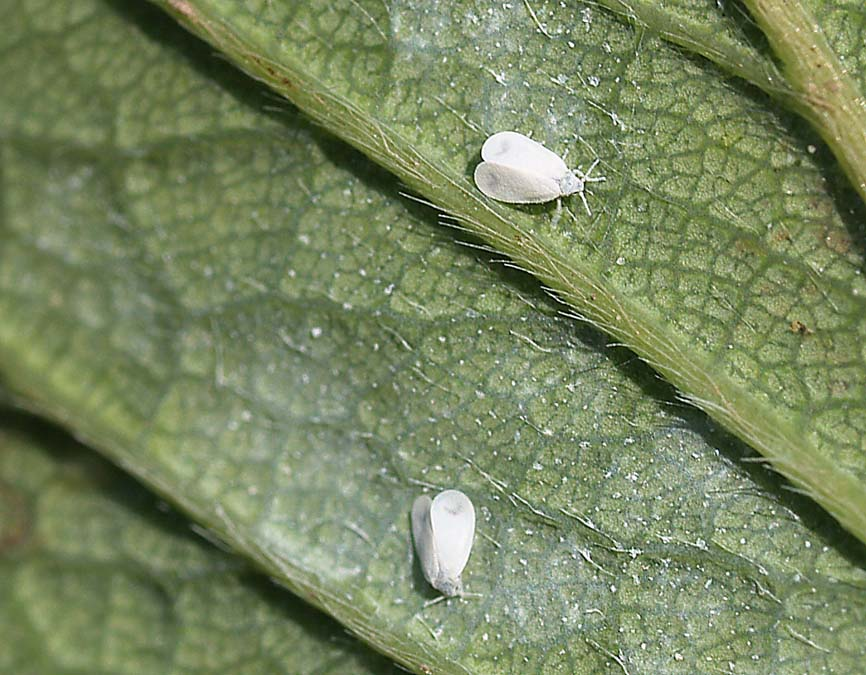whitefly: (472, 130, 604, 223), (410, 487, 485, 609)
